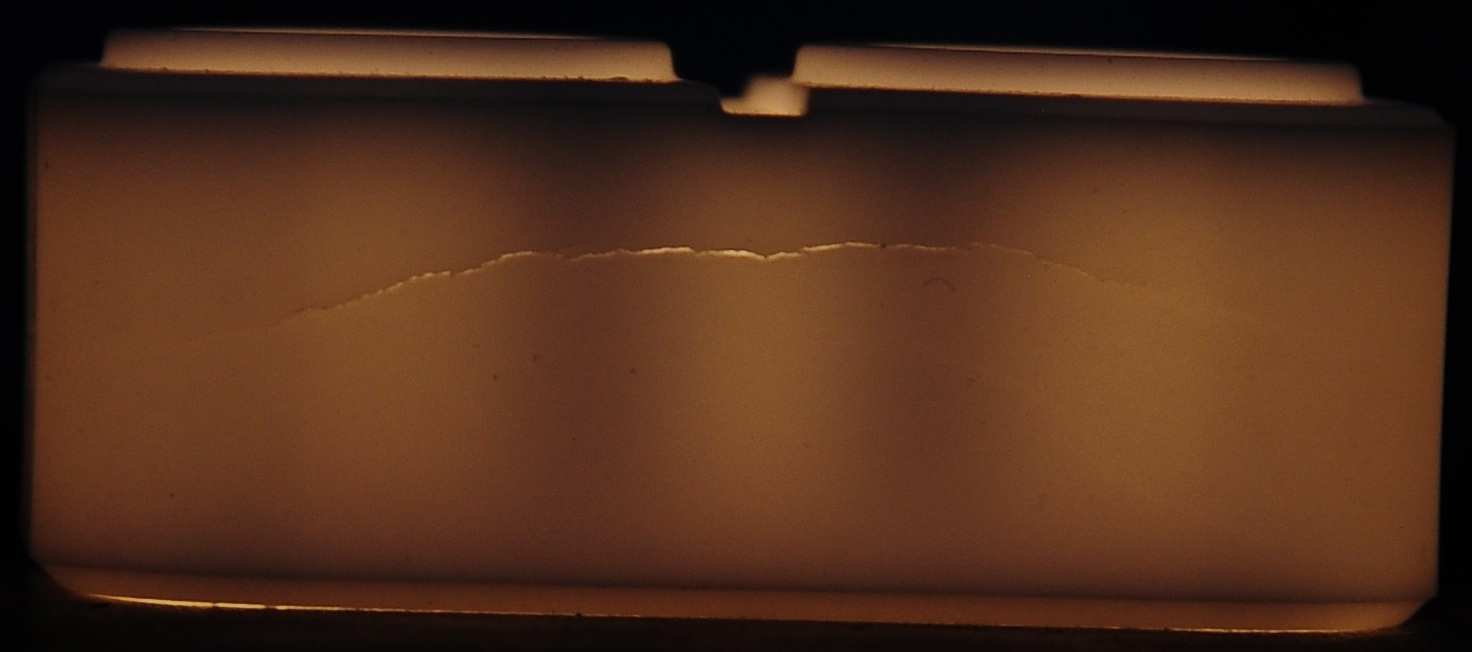flaw: (182, 225, 1308, 380)
